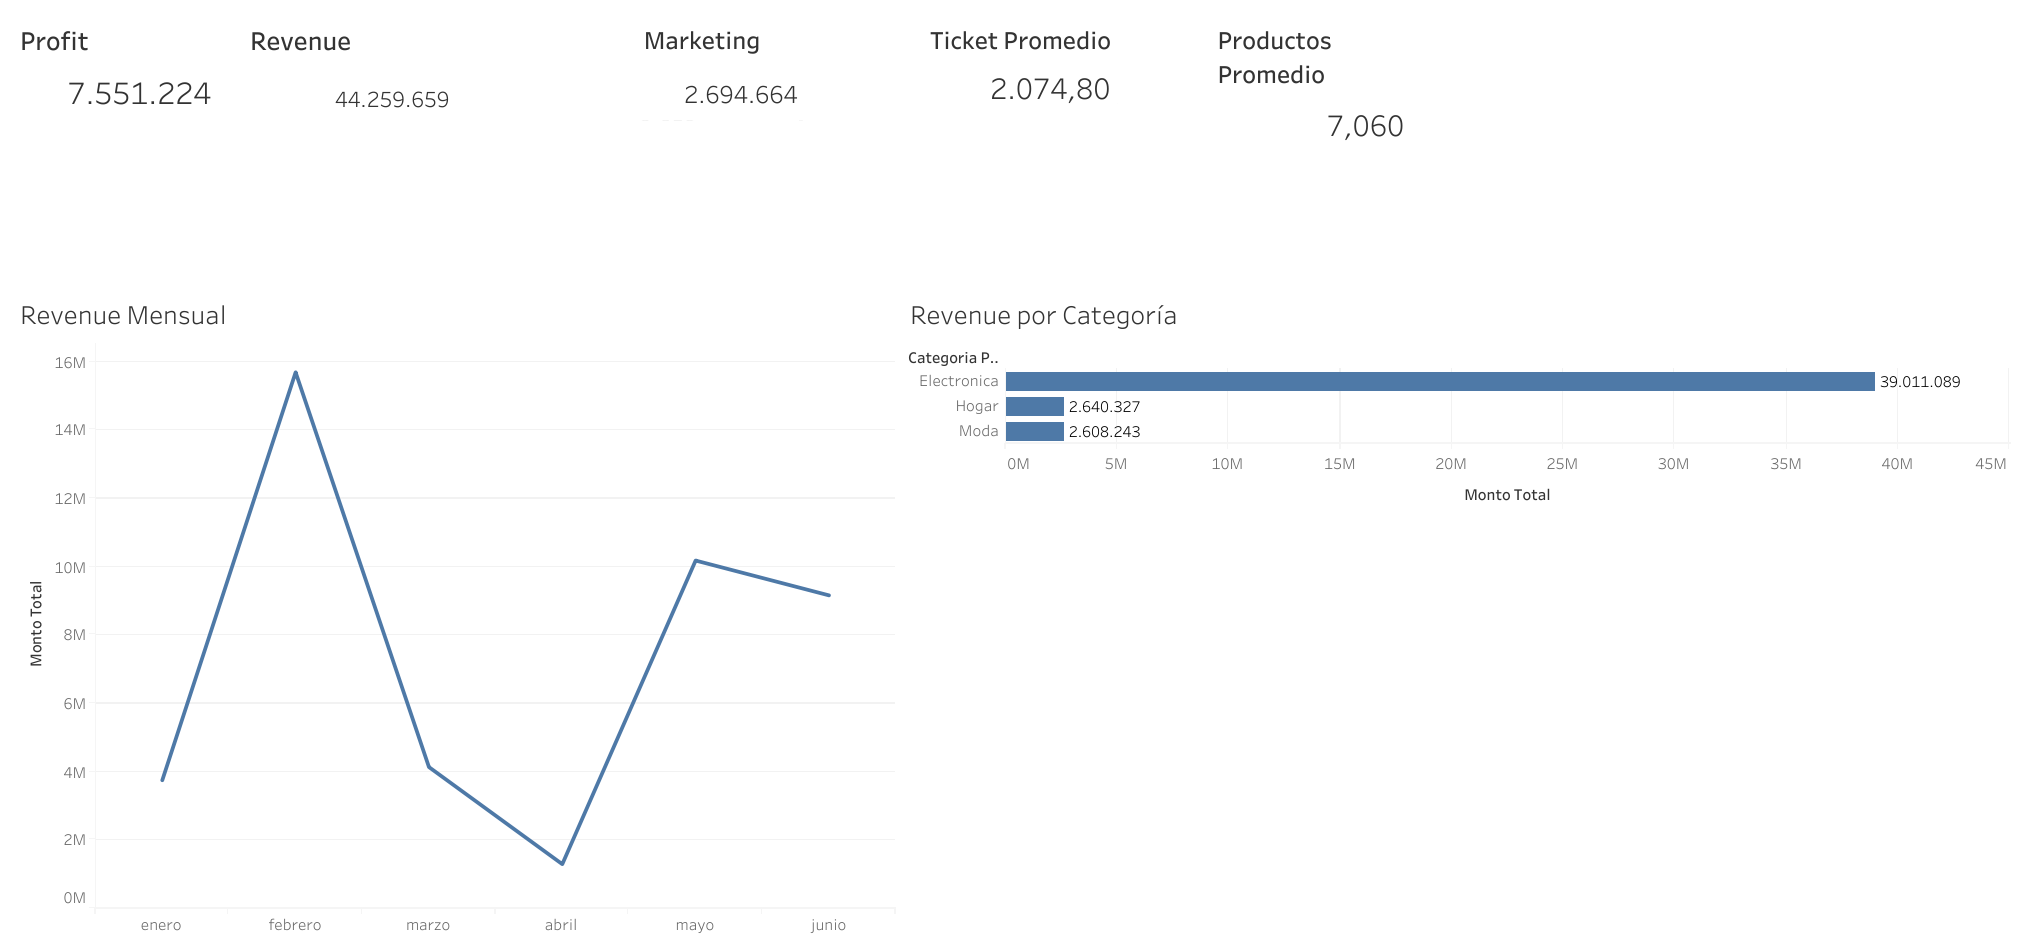

The page's visual inventory and layout, read from the dashboard file:
{"tool":"tableau","page":{"name":"Dashboard 1","canvas":[1000,1000],"units":"permille","ordinal":0},"visuals":[{"type":"worksheet","title":"KPI Profit","mark":"Text","box":[4.9,9.4,112.9,289.1]},{"type":"worksheet","title":"KPI Revenue","mark":"Text","box":[117.8,9.4,193.2,289.1]},{"type":"worksheet","title":"KPI Marketing","mark":"Automatic","box":[311.1,9.4,140.5,289.1]},{"type":"worksheet","title":"KPI Ticket Promedio","mark":"Text","box":[451.5,9.4,141.1,289.1]},{"type":"worksheet","title":"KPI Productos Promedio","mark":"Automatic","box":[592.6,9.4,135,289.1]},{"type":"worksheet","title":"Revenue Mensual","mark":"Line","rows":["monto_total"],"cols":["fecha_hora_pedido"],"box":[4.9,298.5,439.3,692.1]},{"type":"worksheet","title":"Revenue por Categoría","mark":"Bar","rows":["categoria_producto"],"cols":["monto_total"],"box":[444.2,298.5,550.9,692.1]}]}

Visuals, with their boxes on the dashboard's canvas, which has no fixed pixel size, in thousandths of its width and height (x1, y1, x2, y2). These are canvas units, not pixel positions in the 2024x949 screenshot, which may show the page scaled, cropped or inside an application window:
"KPI Profit" worksheet (Text marks): crop(5, 9, 118, 298)
"KPI Revenue" worksheet (Text marks): crop(118, 9, 311, 298)
"KPI Marketing" worksheet: crop(311, 9, 452, 298)
"KPI Ticket Promedio" worksheet (Text marks): crop(452, 9, 593, 298)
"KPI Productos Promedio" worksheet: crop(593, 9, 728, 298)
"Revenue Mensual" worksheet (Line marks): crop(5, 298, 444, 991)
"Revenue por Categoría" worksheet (Bar marks): crop(444, 298, 995, 991)
